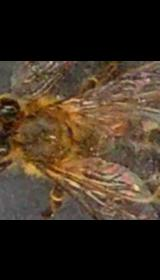varroa_mite: (106, 112, 128, 140)
